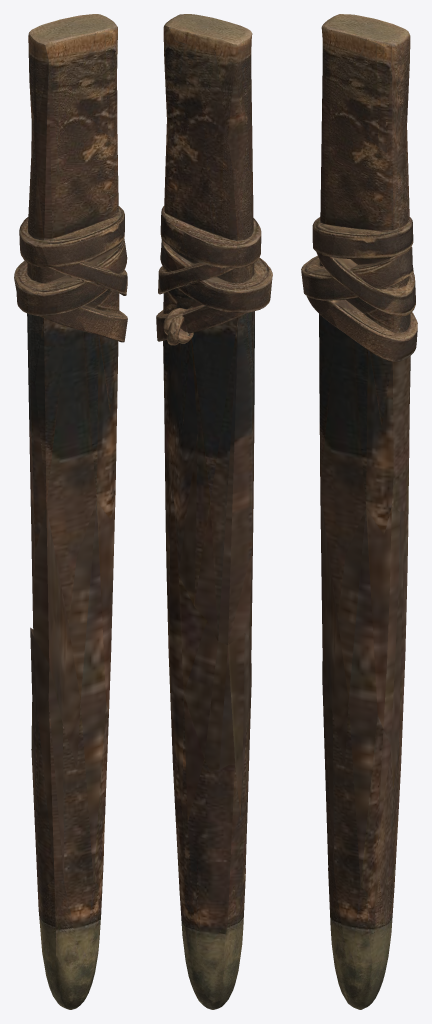
File: scabbard_p2_w2.glb
3 renders of one model, left to right at view 1: azimuth 30°, elevation 25°; view 2: azimuth 150°, elevation 25°; view 3: azimuth 330°, elevation 25°, orthographic.
Visible parts, largest first — view 1: scabbard_p2_w2; view 2: scabbard_p2_w2; view 3: scabbard_p2_w2.
Part boxes in pixels (x1=…): scabbard_p2_w2: x1=14, y1=14, x2=127, y2=1009; scabbard_p2_w2: x1=156, y1=14, x2=272, y2=1009; scabbard_p2_w2: x1=301, y1=14, x2=417, y2=1009.
Size of the model in its own units: 0.0798 by 0.725 by 0.0708.
Materials: 1 (1 with a texture image).
